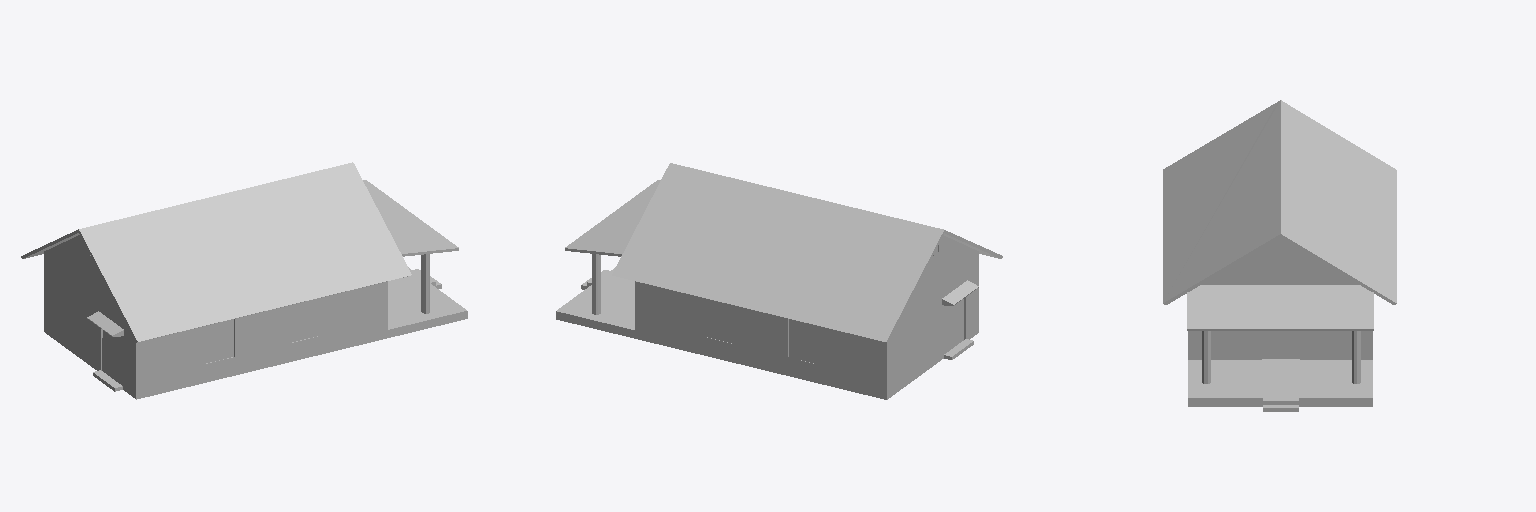
File: house.obj
3 renders of one model, left to right at view 1: azimuth 30°, elevation 25°; view 2: azimuth 150°, elevation 25°; view 3: azimuth 270°, elevation 25°, orthographic.
Parts seen in each view (by area): view 1: farmhouse_obj; view 2: farmhouse_obj; view 3: farmhouse_obj.
Part boxes in pixels (left/top/right/bottom): farmhouse_obj: left=21, top=162, right=467, bottom=399; farmhouse_obj: left=556, top=163, right=1002, bottom=399; farmhouse_obj: left=1163, top=100, right=1396, bottom=411.
Bounding box in the file's own units: 25.27 × 9.48 × 14.47.